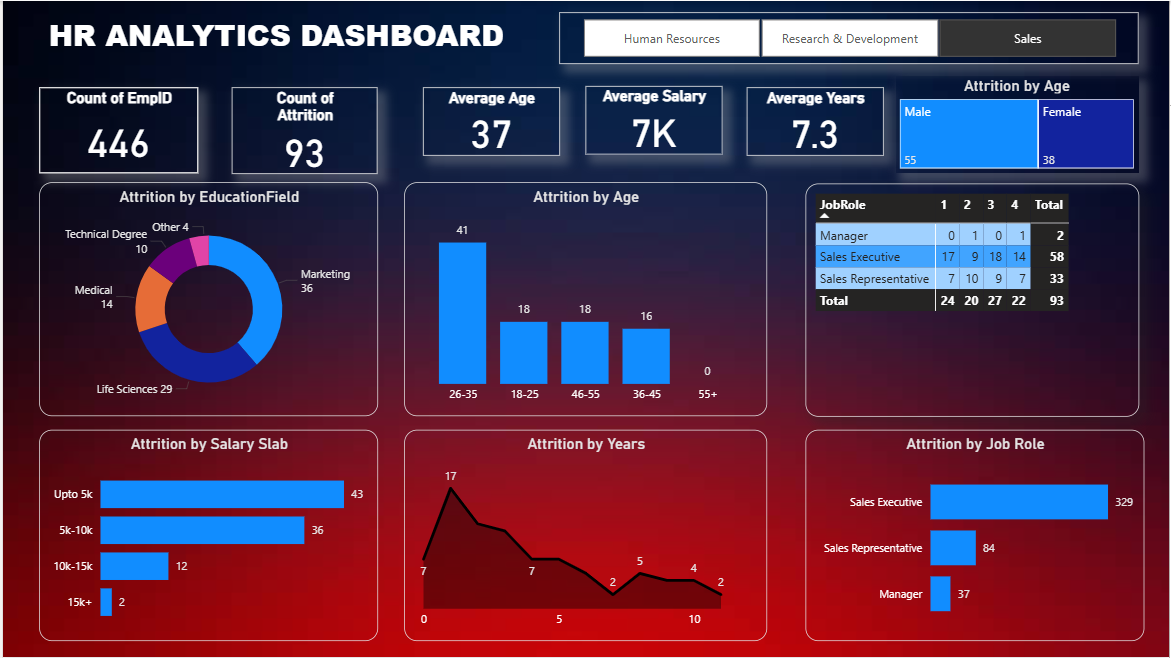

Layout of this report page (visuals, bound fields, positions):
{"tool":"powerbi","page":{"name":"Page 1","canvas":[1280,720],"ordinal":0},"visuals":[{"type":"card","title":"Count of EmpID","fields":{"Values":["Count(HR_Analytics (2).EmpID)"]},"box":[39.8,94.7,174.3,94.7],"z":0},{"type":"card","title":"Count of Attrition","fields":{"Values":["Sum(HR_Analytics (2).Attrition_Count)"]},"box":[251.7,95,160,95],"z":1000},{"type":"card","title":"Average Age","fields":{"Values":["Avg(HR_Analytics (2).Age)"]},"box":[461.7,95,150,75],"z":2000},{"type":"card","title":"Average Salary","fields":{"Values":["Avg(HR_Analytics (2).MonthlyIncome)"]},"box":[640,93.3,150,75],"z":3000},{"type":"donutChart","title":"Attrition by EducationField","fields":{"Y":["Sum(HR_Analytics (2).Attrition_Count)"],"Category":["HR_Analytics (2).EducationField"]},"box":[40.1,199.1,371.9,257.2],"z":4000},{"type":"pivotTable","fields":{"Rows":["HR_Analytics (2).JobRole"],"Values":["Sum(HR_Analytics (2).Attrition_Count)"],"Columns":["HR_Analytics (2).JobSatisfaction"]},"box":[880.7,200.5,366.4,255.8],"z":5000},{"type":"columnChart","title":"Attrition by Age","fields":{"Category":["HR_Analytics (2).AgeGroup"],"Y":["Sum(HR_Analytics (2).Attrition_Count)"]},"box":[441,199.1,398.2,257.2],"z":6000},{"type":"barChart","title":"Attrition by Salary Slab","fields":{"Category":["HR_Analytics (2).SalarySlab"],"Y":["Sum(HR_Analytics (2).Attrition_Count)"]},"box":[40.1,470.1,371.9,232.3],"z":7000},{"type":"treemap","title":"Attrition by Age","fields":{"Group":["HR_Analytics (2).Gender"],"Values":["Sum(HR_Analytics (2).Attrition_Count)"]},"box":[980.3,83,266.8,106.5],"z":8000},{"type":"textbox","box":[0,9.7,600,59.5],"z":9000},{"type":"slicer","fields":{"Values":["HR_Analytics (2).Department"]},"box":[611.1,12.4,636,56.7],"z":10000},{"type":"card","title":"Average Years","fields":{"Values":["Avg(HR_Analytics (2).YearsAtCompany)"]},"box":[816.7,95,150,75],"z":11000},{"type":"barChart","title":"Attrition by Job Role","fields":{"Category":["HR_Analytics (2).JobRole"],"Y":["CountNonNull(HR_Analytics (2).JobRole)"]},"box":[880.7,470.1,371.9,232.3],"z":12000},{"type":"areaChart","title":"Attrition by Years","fields":{"Category":["HR_Analytics (2).YearsAtCompany"],"Y":["Sum(HR_Analytics (2).Attrition_Count)"]},"box":[441,470.1,398.2,232.3],"z":13000}]}

Visuals, with their boxes in screenshot pixels (x1, y1, x2, y2), scaled from the page's 1280x720 canvas onto the 1171x658 screenshot:
"Count of EmpID" card: detection(36, 87, 196, 173)
"Count of Attrition" card: detection(230, 87, 377, 174)
"Average Age" card: detection(422, 87, 560, 155)
"Average Salary" card: detection(586, 85, 723, 154)
"Attrition by EducationField" donutChart: detection(37, 182, 377, 417)
pivotTable - HR_Analytics (2).JobRole x Sum(HR_Analytics (2).Attrition_Count): detection(806, 183, 1141, 417)
"Attrition by Age" columnChart: detection(403, 182, 768, 417)
"Attrition by Salary Slab" barChart: detection(37, 430, 377, 642)
"Attrition by Age" treemap: detection(897, 76, 1141, 173)
textbox: detection(0, 9, 549, 63)
slicer - HR_Analytics (2).Department: detection(559, 11, 1141, 63)
"Average Years" card: detection(747, 87, 884, 155)
"Attrition by Job Role" barChart: detection(806, 430, 1146, 642)
"Attrition by Years" areaChart: detection(403, 430, 768, 642)
